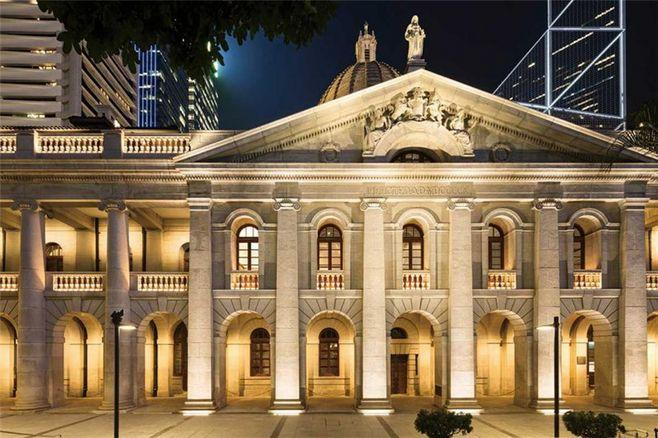buildings: (27, 149, 653, 415), (51, 37, 625, 178)
